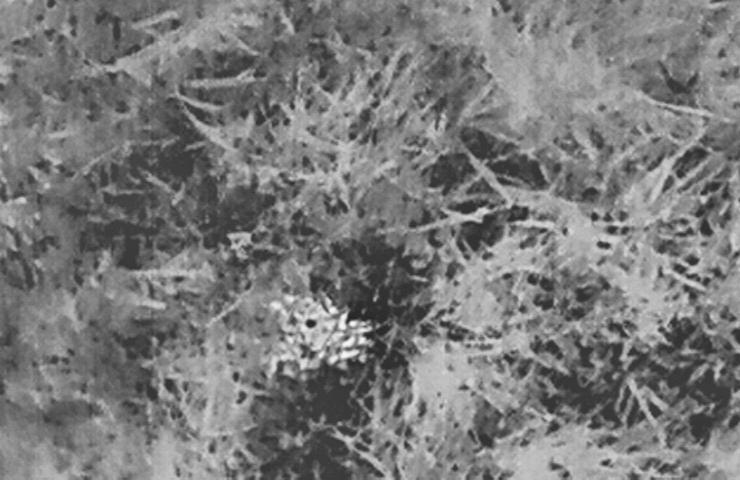landmines: (260, 286, 372, 379)
